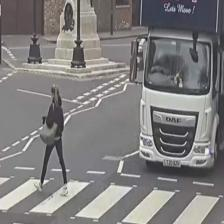person: (33, 84, 68, 196)
